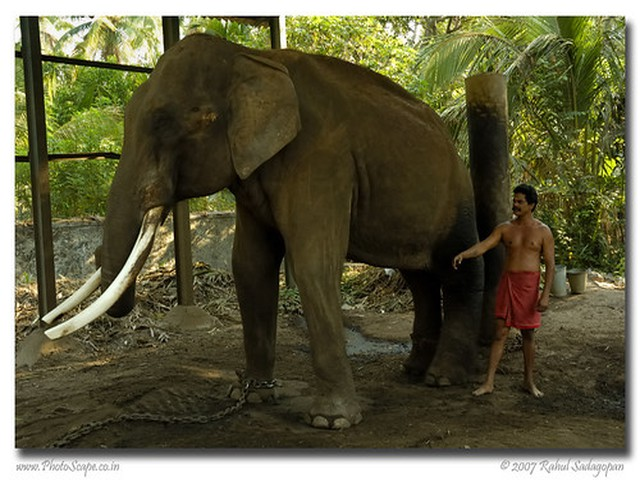Elephant: (47, 29, 475, 426)
Person: (454, 180, 562, 399)
